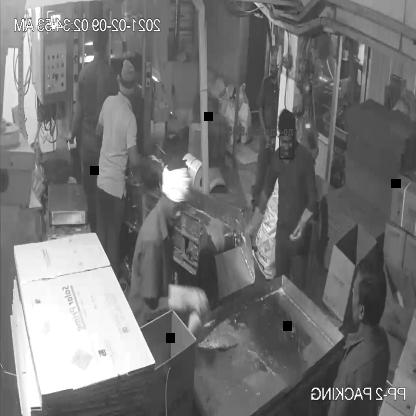glove: (161, 279, 216, 320), (239, 201, 274, 248), (288, 201, 315, 248)
no_glove: (119, 144, 165, 182), (61, 86, 84, 152)
